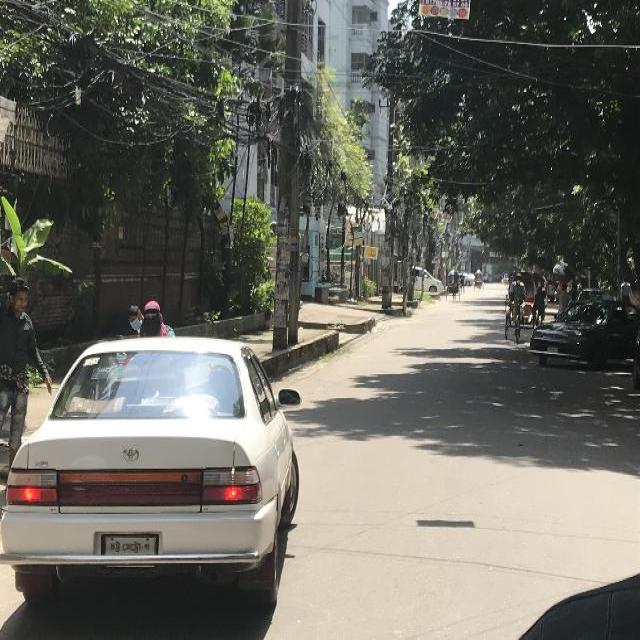car: (5, 335, 302, 609), (530, 300, 640, 368), (576, 285, 614, 300), (459, 272, 473, 285)
minivan: (411, 264, 442, 293)
rickshaw: (505, 270, 535, 342), (530, 270, 550, 322), (446, 268, 460, 299), (473, 268, 483, 289), (500, 268, 508, 286)
